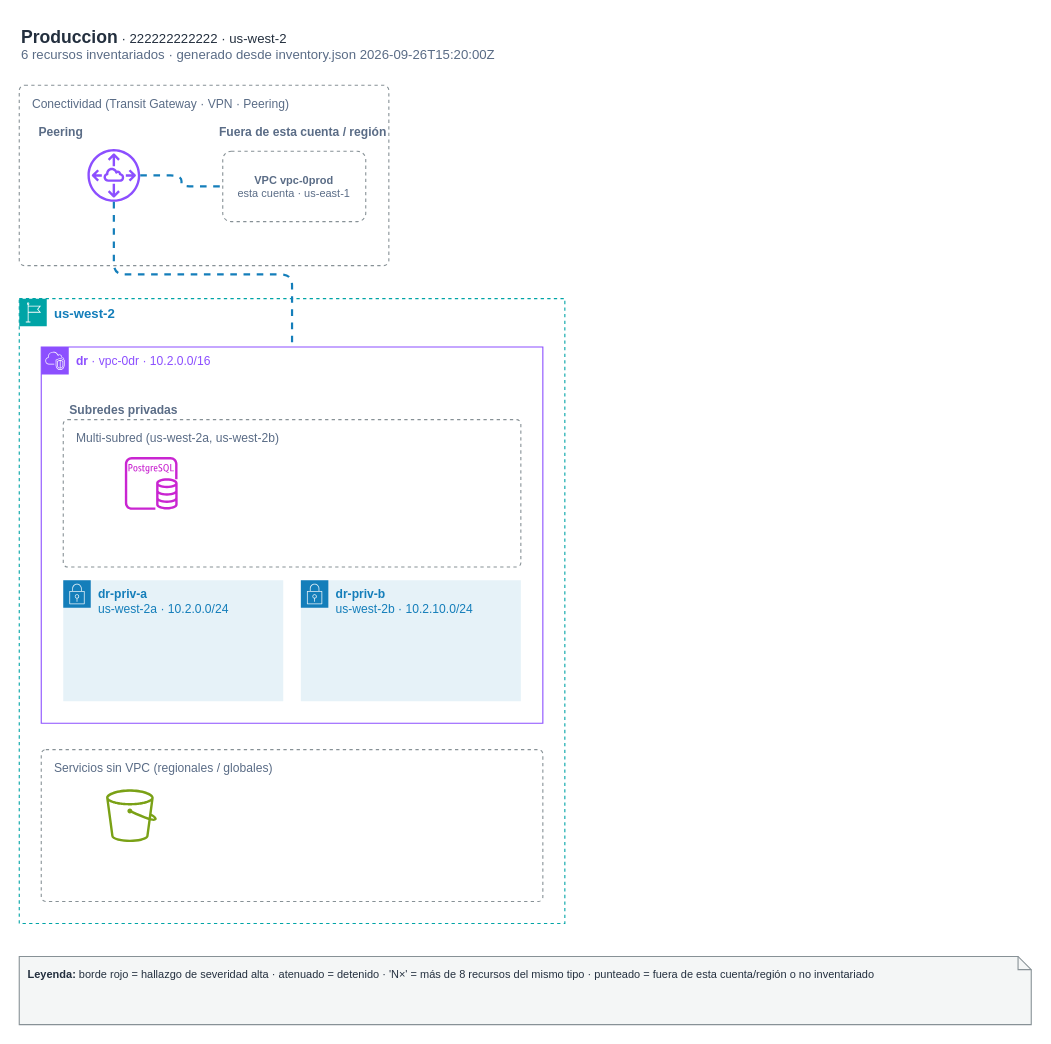
Image size: 1051x1044. Some labels were removed from this diagram. Each missing label, with the centre of its shape:
prod-a-dr peering · active: point 113,174
prod-backups-dr bucket: point 131,815
prod-db-replica db.r6g.large · 2 subredes: point 150,483
